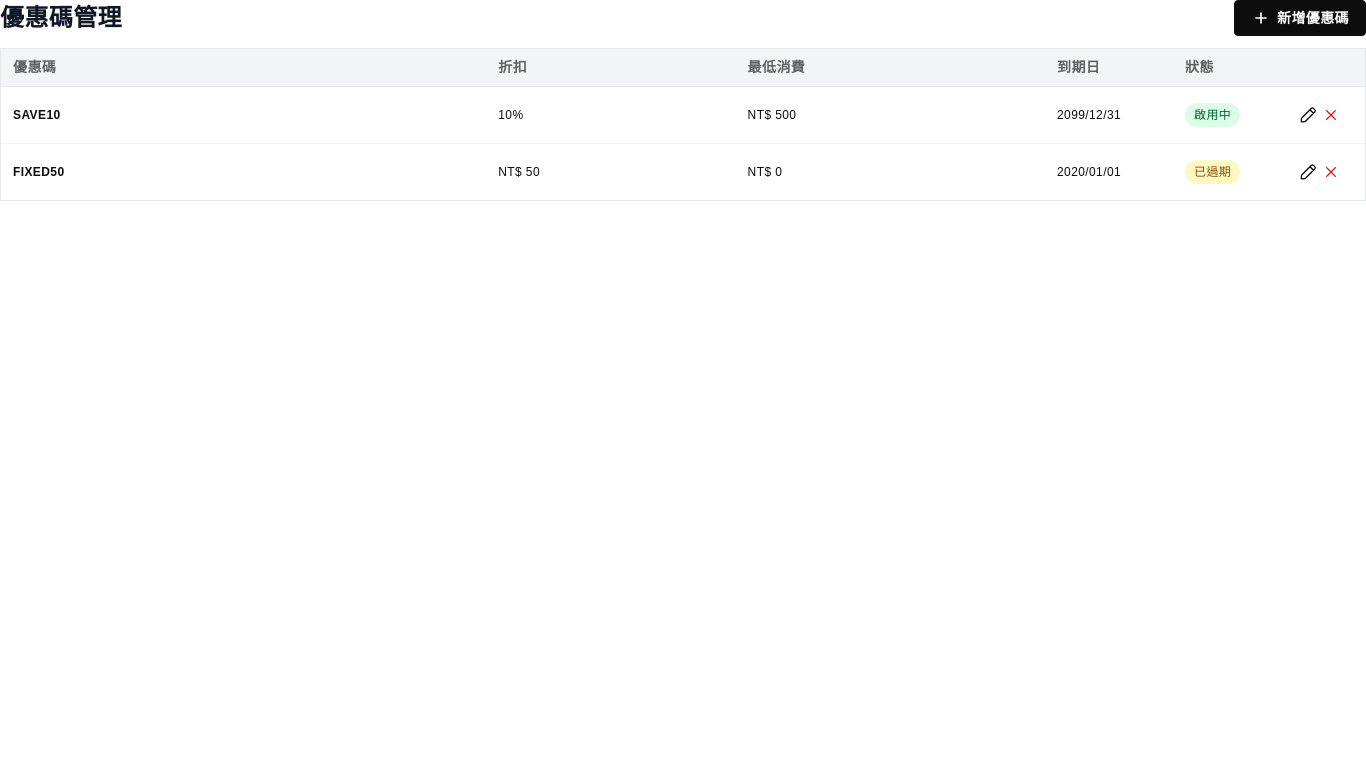
CouponManager › 編輯優惠碼時帶入該筆資料
The width and height of the screenshot is (1366, 768).
Check: the text "SAVE10" is shown, box [13, 108, 60, 122]
Click the button named "編輯優惠碼" in the row of "FIXED50": x=1308, y=172 [1297, 152, 1319, 192]
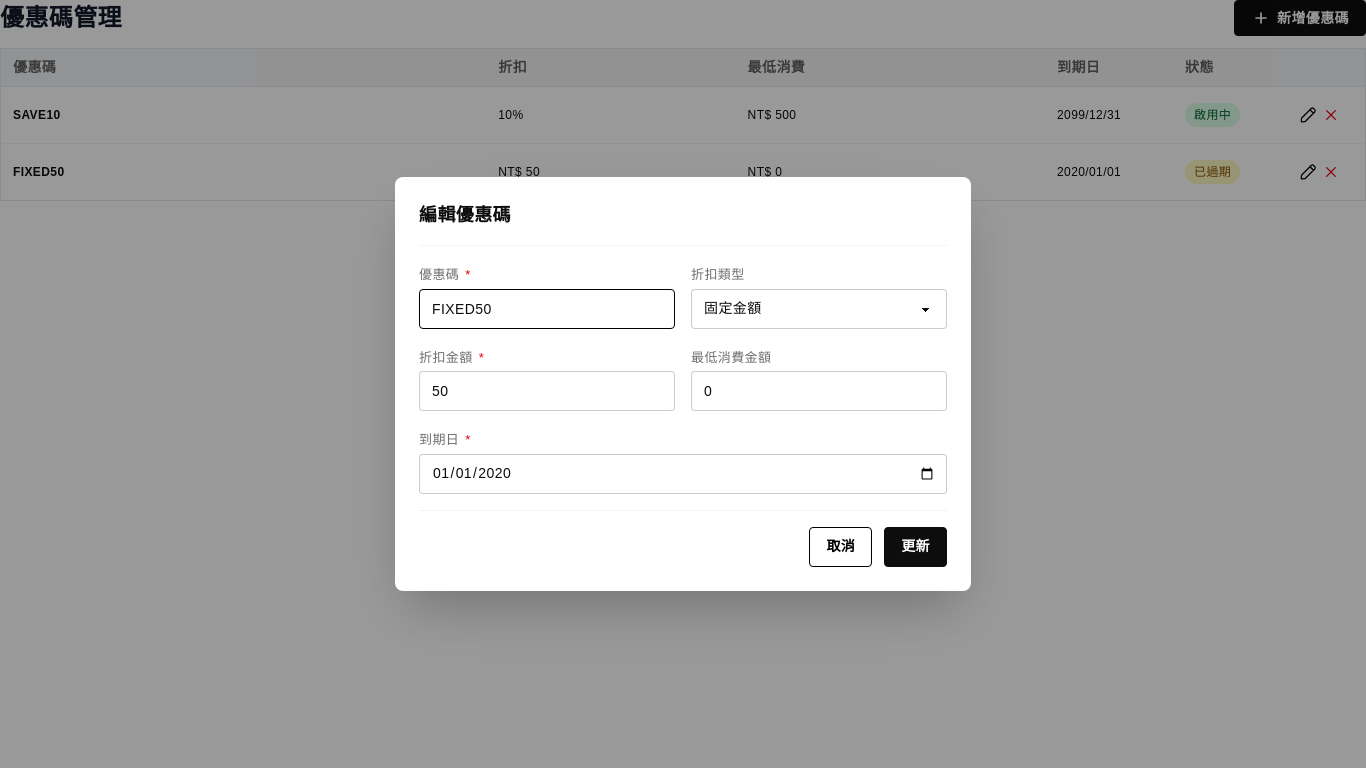
Check: the heading "編輯優惠碼" is shown, box [419, 201, 511, 229]
Check: the field labelled "優惠碼 *" holds "FIXED50", box [419, 289, 675, 329]
Check: the dropdown labelled "折扣類型" shows "固定金額", box [691, 289, 947, 329]
